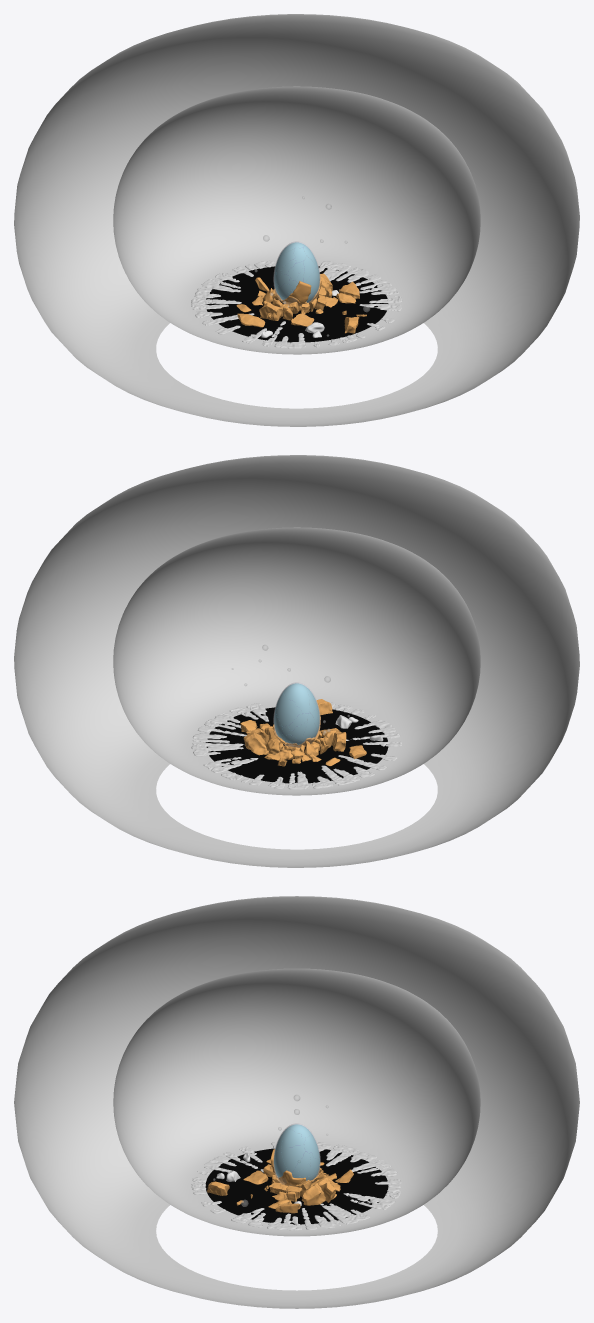
The model's file is PXLs_egg238.glb.
The picture shows the model from 3 angles, top to bottom: view 1: azimuth 30°, elevation 25°; view 2: azimuth 150°, elevation 25°; view 3: azimuth 270°, elevation 25°; orthographic projection.
Parts seen in each view (by area): view 1: outerCylinder, innerCylinder, floorBase, rockDebris, smoke4, smoke3, crackedEgg; view 2: outerCylinder, innerCylinder, floorBase, rockDebris, smoke4, smoke3, crackedEgg; view 3: outerCylinder, innerCylinder, floorBase, rockDebris, smoke4, smoke3, crackedEgg.
Boxes of the visible parts, left/top/right/bottom form: outerCylinder: left=14, top=14, right=579, bottom=426; innerCylinder: left=113, top=86, right=480, bottom=354; floorBase: left=206, top=266, right=388, bottom=342; rockDebris: left=237, top=273, right=359, bottom=333; smoke4: left=273, top=241, right=320, bottom=305; smoke3: left=274, top=241, right=319, bottom=302; crackedEgg: left=274, top=242, right=319, bottom=302; outerCylinder: left=14, top=455, right=579, bottom=867; innerCylinder: left=113, top=527, right=480, bottom=795; floorBase: left=205, top=707, right=388, bottom=783; rockDebris: left=240, top=699, right=366, bottom=766; smoke4: left=273, top=682, right=320, bottom=747; smoke3: left=274, top=682, right=319, bottom=746; crackedEgg: left=274, top=683, right=319, bottom=744; outerCylinder: left=14, top=896, right=579, bottom=1308; innerCylinder: left=113, top=968, right=480, bottom=1236; floorBase: left=205, top=1148, right=388, bottom=1224; rockDebris: left=207, top=1156, right=353, bottom=1213; smoke4: left=273, top=1123, right=320, bottom=1185; smoke3: left=274, top=1123, right=320, bottom=1179; crackedEgg: left=274, top=1124, right=319, bottom=1180.
Bounding box in the file's own units: 22.69 × 11.36 × 22.69.
Materials: 8 (2 with a texture image).
